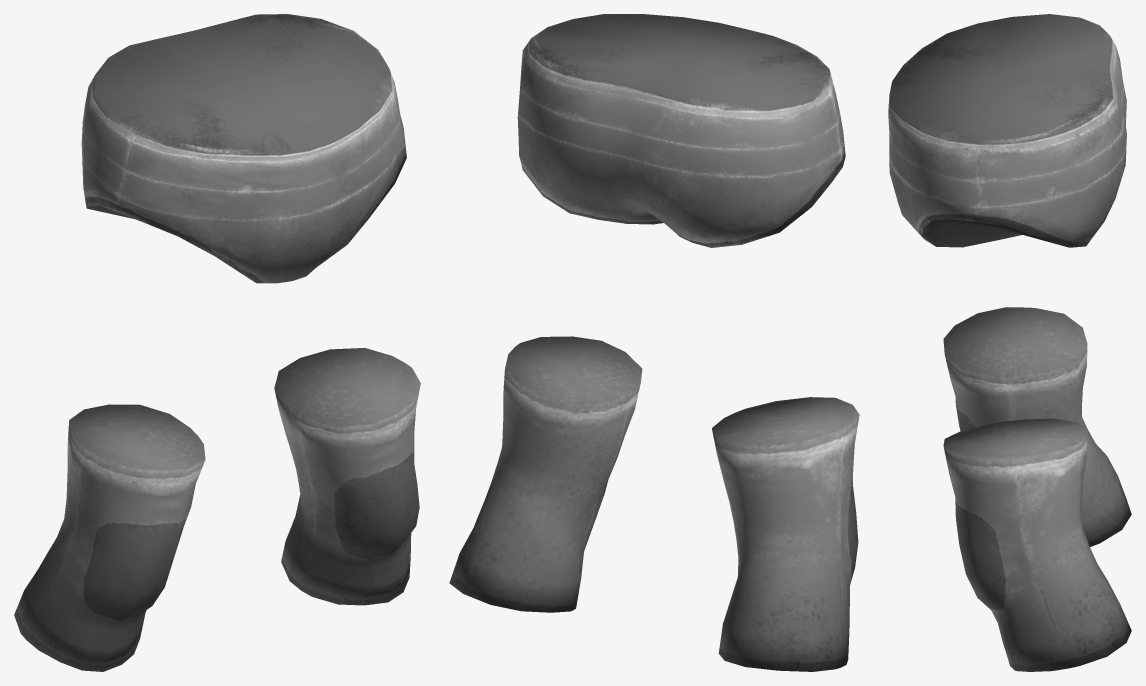
File: SurvivorMale_Legs_Pants_ShortsKneepads_LOD0.glb
The picture shows the model from 3 angles, left to right: view 1: azimuth 30°, elevation 25°; view 2: azimuth 150°, elevation 25°; view 3: azimuth 270°, elevation 25°; orthographic projection. The views are drawn at different scales.
Parts seen in each view (by area): view 1: Hoodie; view 2: Hoodie; view 3: Hoodie.
Part boxes in pixels (x1,y1,x2,y2): Hoodie: (14, 14, 420, 671); Hoodie: (449, 14, 859, 671); Hoodie: (888, 14, 1131, 671).
Bounding box in the file's own units: 0.453 × 0.6547 × 0.2695.
1 material, 1 textured.
